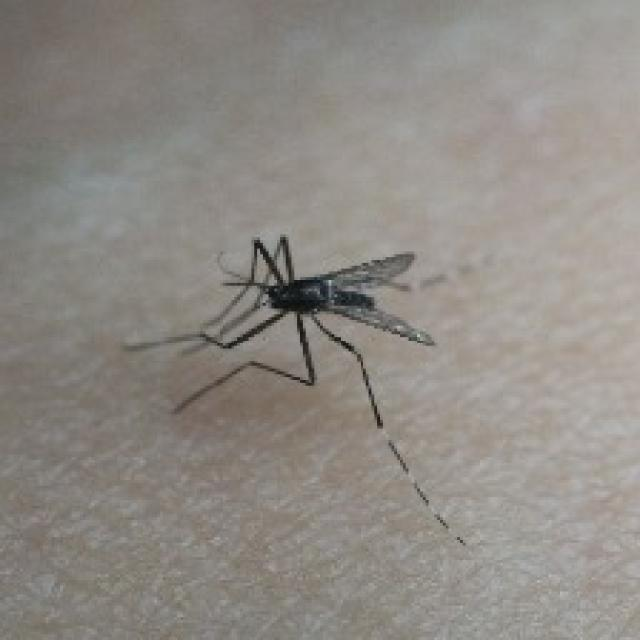aedes: (120, 231, 466, 546)
